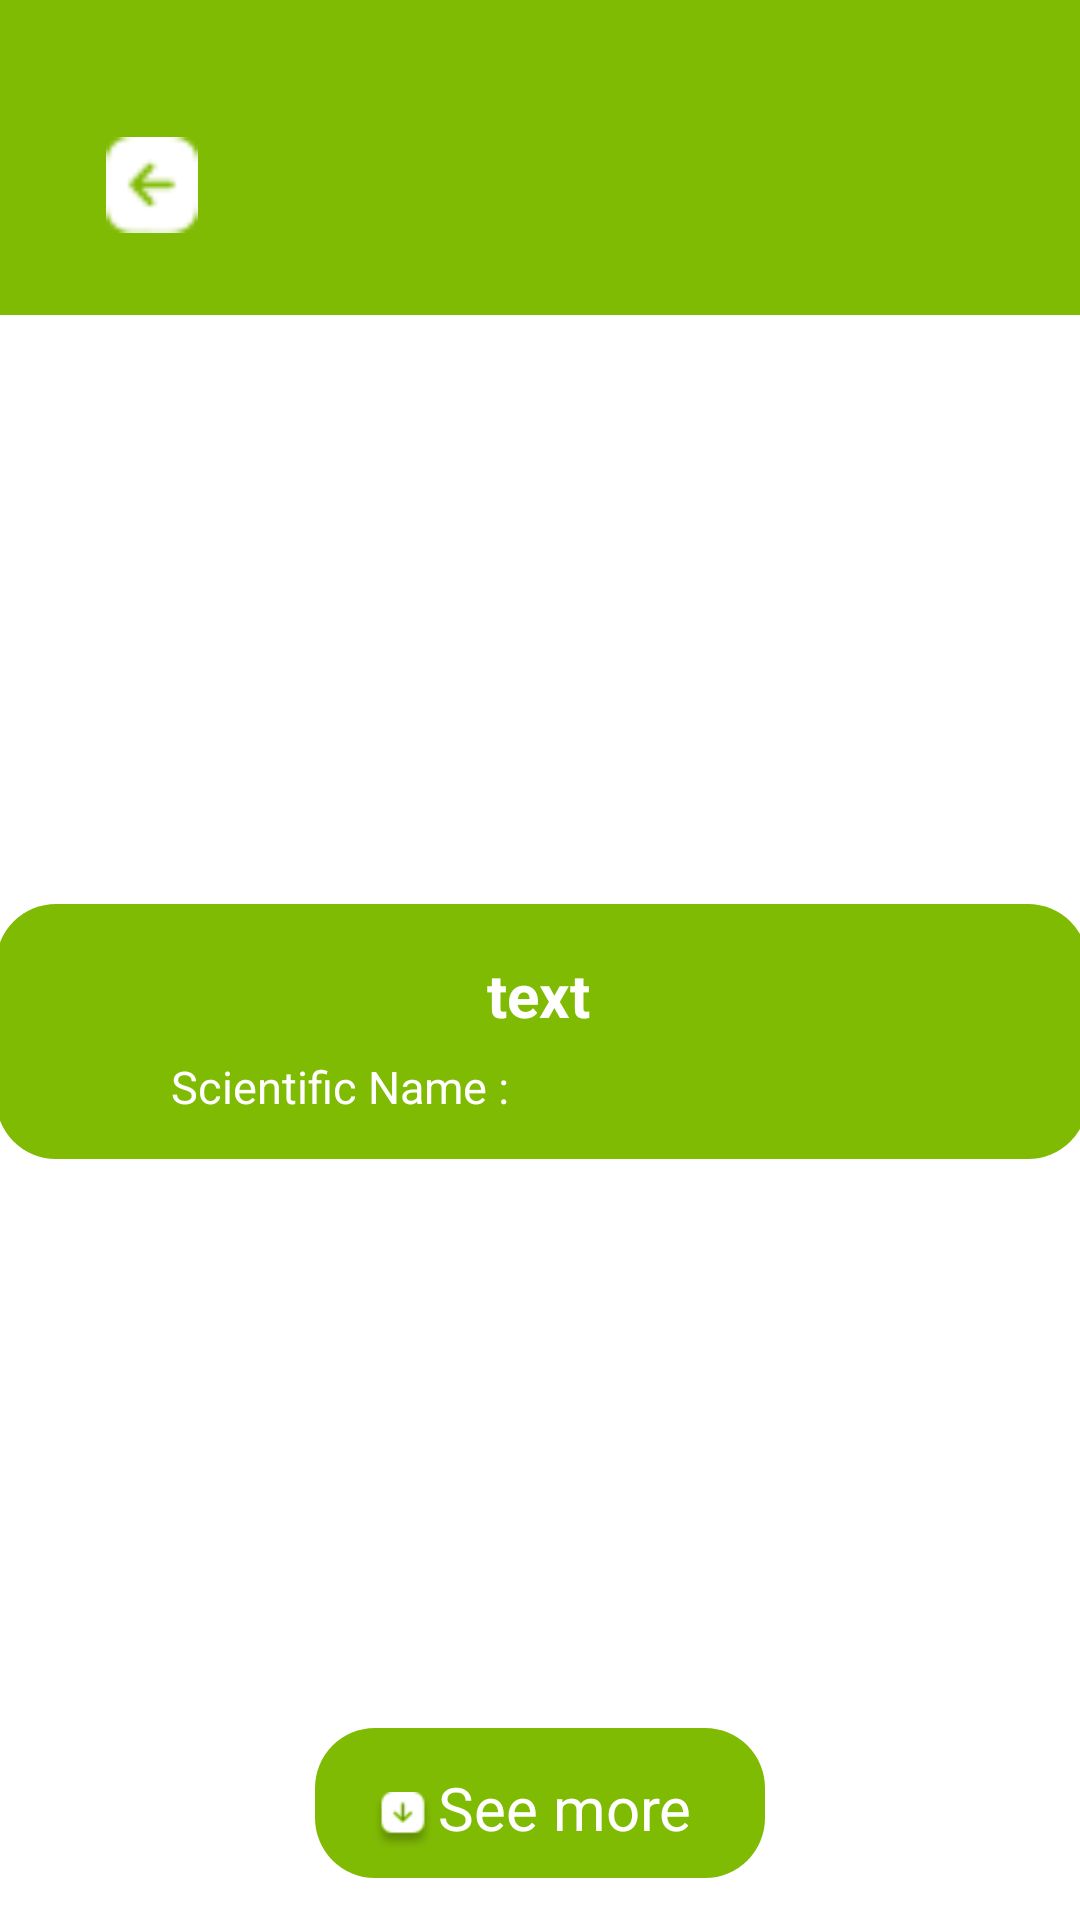

Point at icon controls on the screen. Image size 1080x1920, points as (x,y).
arrowleft: (152,185)
down arrow: (403,1816)
